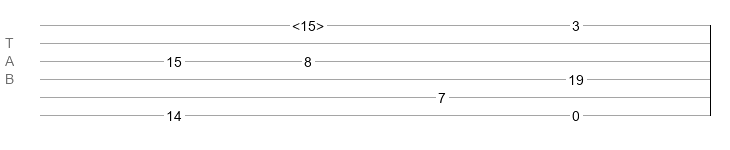0: (572, 108, 580, 118)
14: (166, 108, 182, 118)
15: (166, 54, 182, 64)
19: (568, 72, 584, 82)
3: (572, 18, 580, 28)
7: (438, 90, 446, 100)
8: (304, 54, 312, 64)
harmonic: (292, 18, 324, 28)
